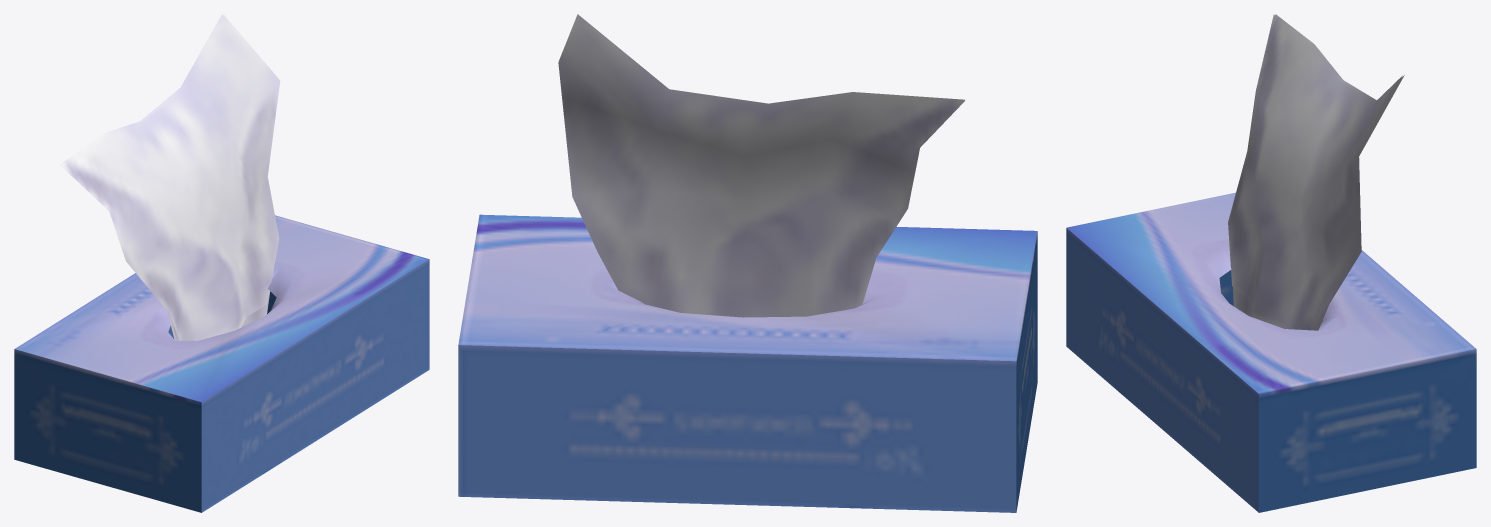
The model's file is TuShuGuan_01_zhichouhe_01.FBX.
3 renders of one model, left to right at view 1: azimuth 30°, elevation 25°; view 2: azimuth 150°, elevation 25°; view 3: azimuth 270°, elevation 25°, orthographic. The views are drawn at different scales.
Visible parts, largest first — view 1: TuShuGuan_01_zhichouhe_01; view 2: TuShuGuan_01_zhichouhe_01; view 3: TuShuGuan_01_zhichouhe_01.
Boxes of the visible parts, x1,y1,x2,y2 form: TuShuGuan_01_zhichouhe_01: (14,14,429,512); TuShuGuan_01_zhichouhe_01: (458,14,1037,512); TuShuGuan_01_zhichouhe_01: (1066,14,1476,512).
Bounding box in the file's own units: 134 × 108 × 110.
